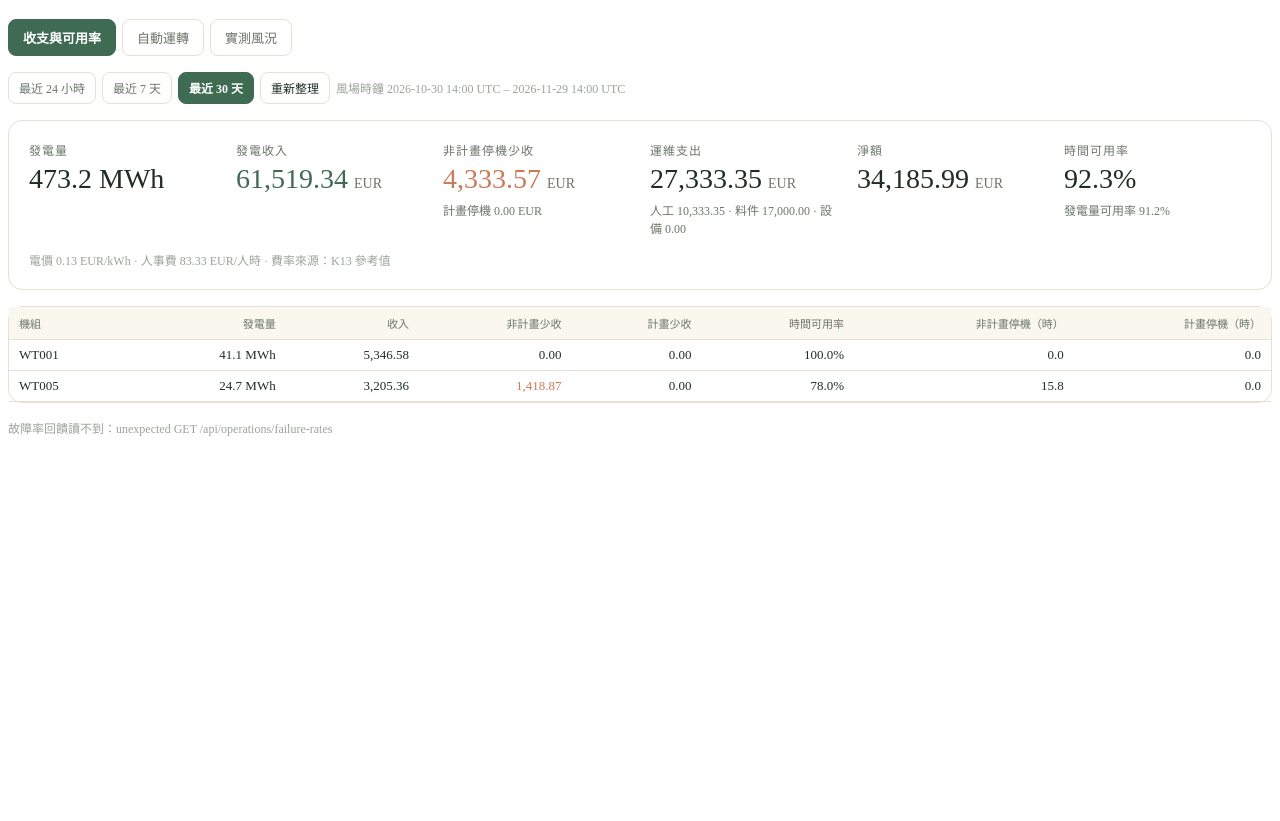
Test: 自動運轉 › 自動定檢計畫：列出排程、儲存週期
This screenshot has width=1280, height=821.
Click the button "自動運轉" at (163, 37), box [122,19,204,56]
(page scrolled)
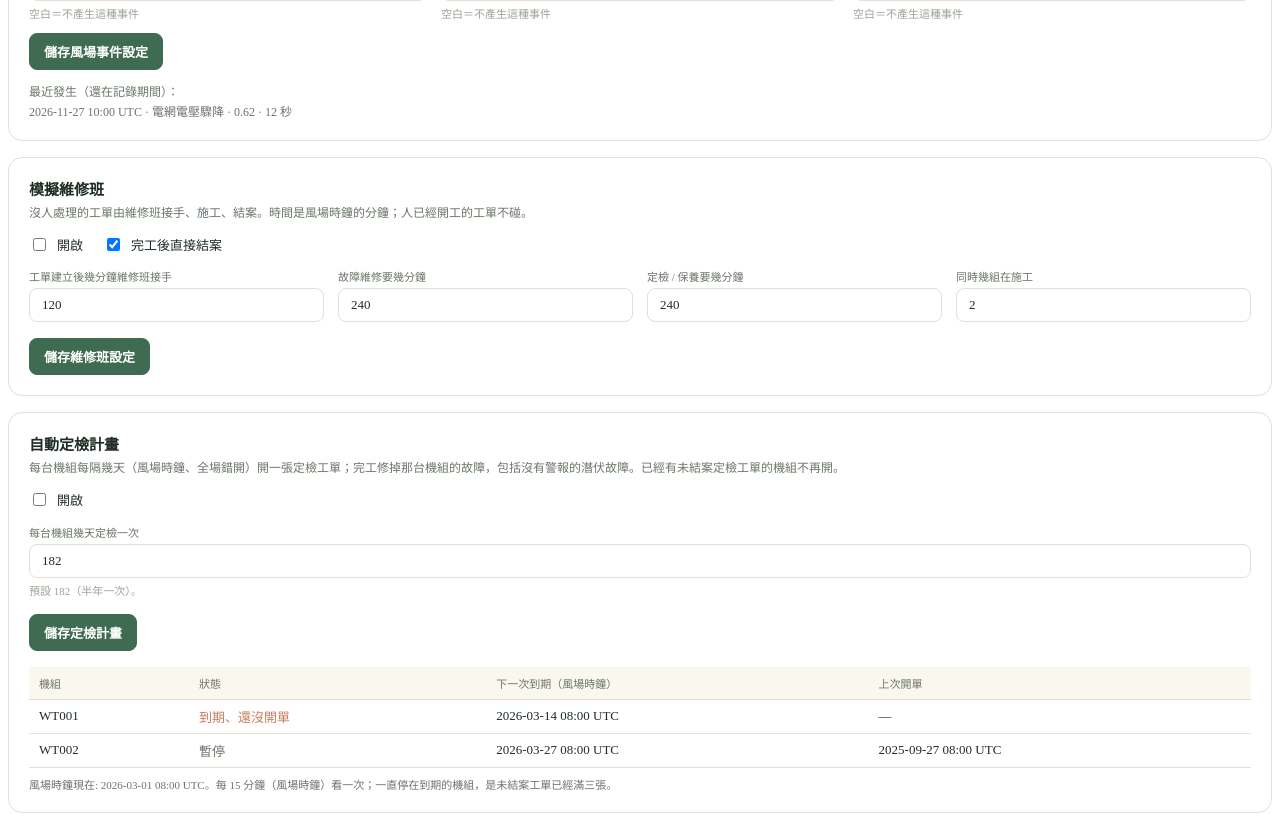
Result: the text "2026-03-14 08:00 UTC" is shown at [486,699,869,733]
Result: the text "暫停" is shown at [189,733,486,767]
Result: the text "到期、還沒開單" is shown at [189,699,486,733]
Replace the text in the number field labelled "每台機組幾天定檢一次" with "30" at (640, 561), box [29,544,1251,578]
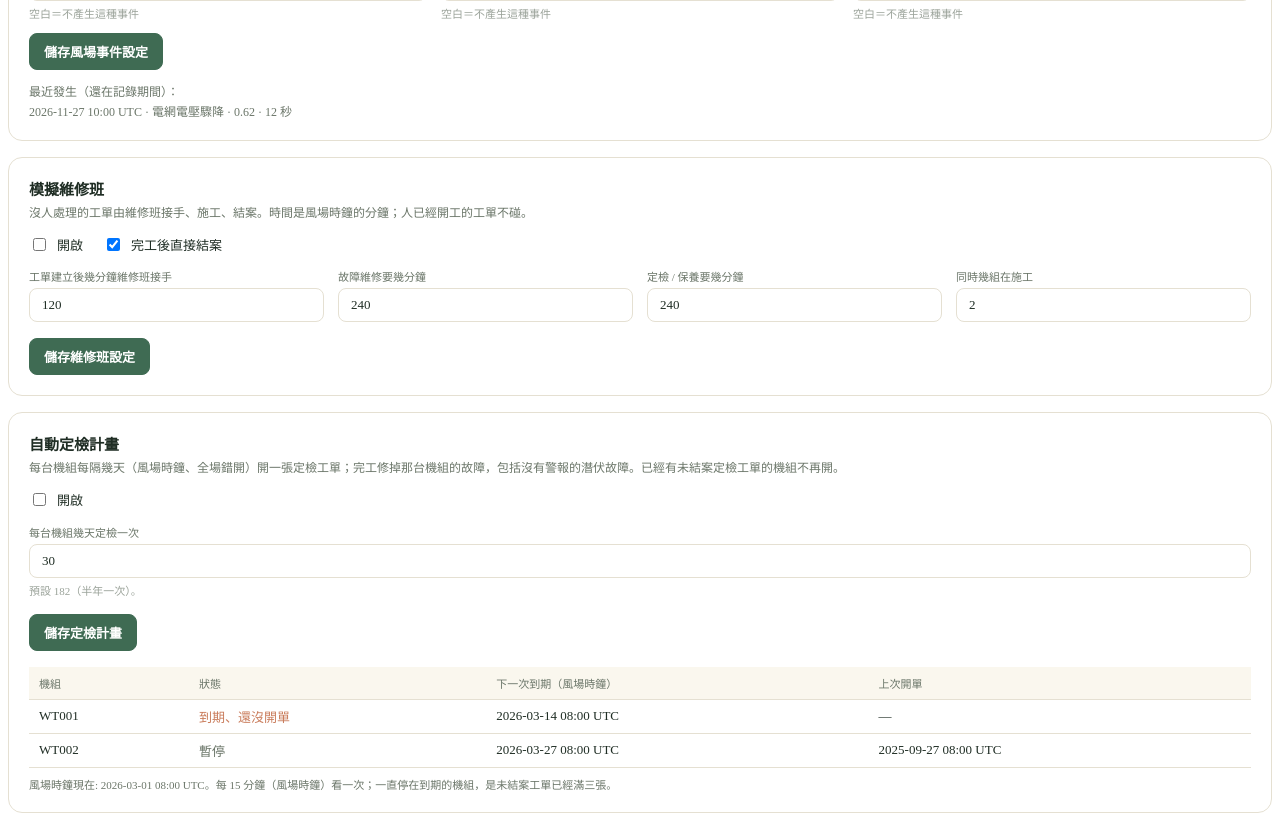
Click the checkbox labelled "開啟" below "自動定檢計畫" at (40, 499), box [33,493,46,506]
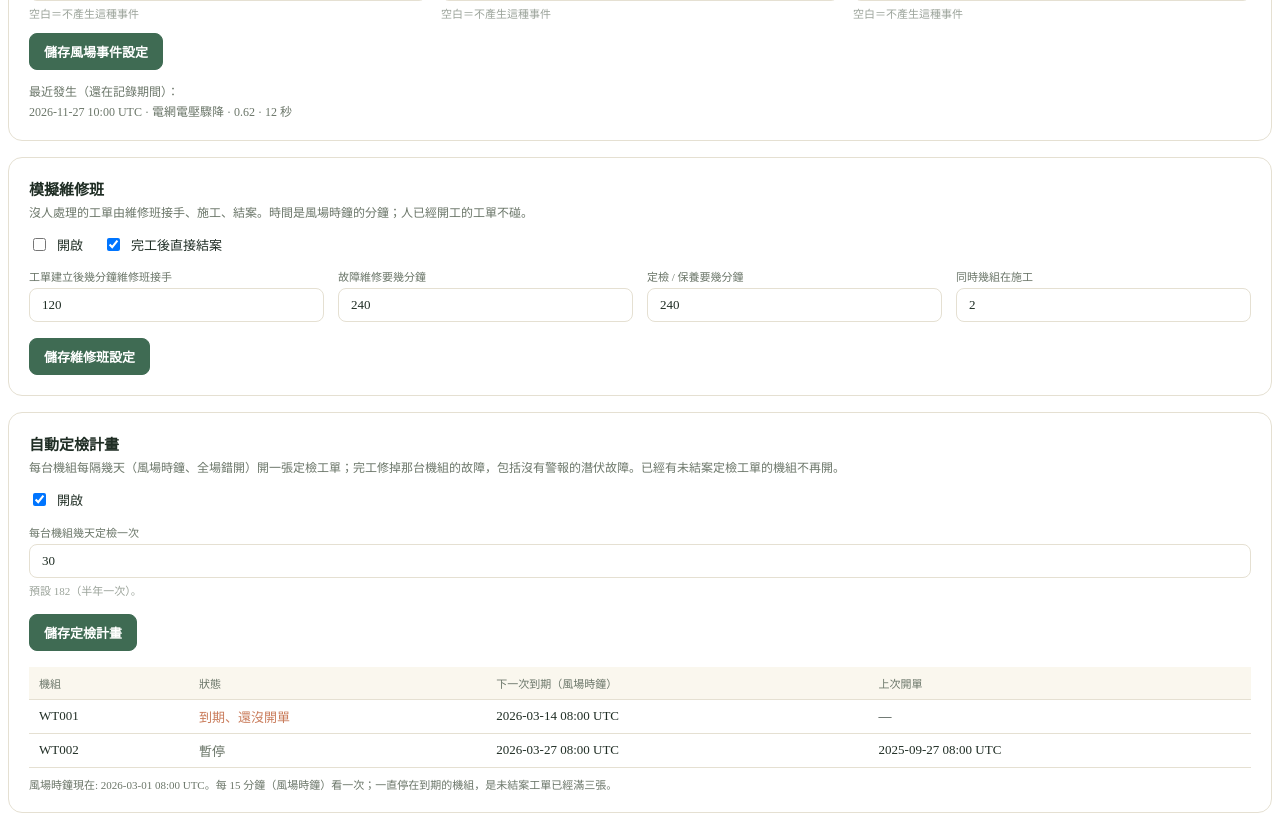
Click the button "儲存定檢計畫" at (83, 632), box [29,614,137,651]
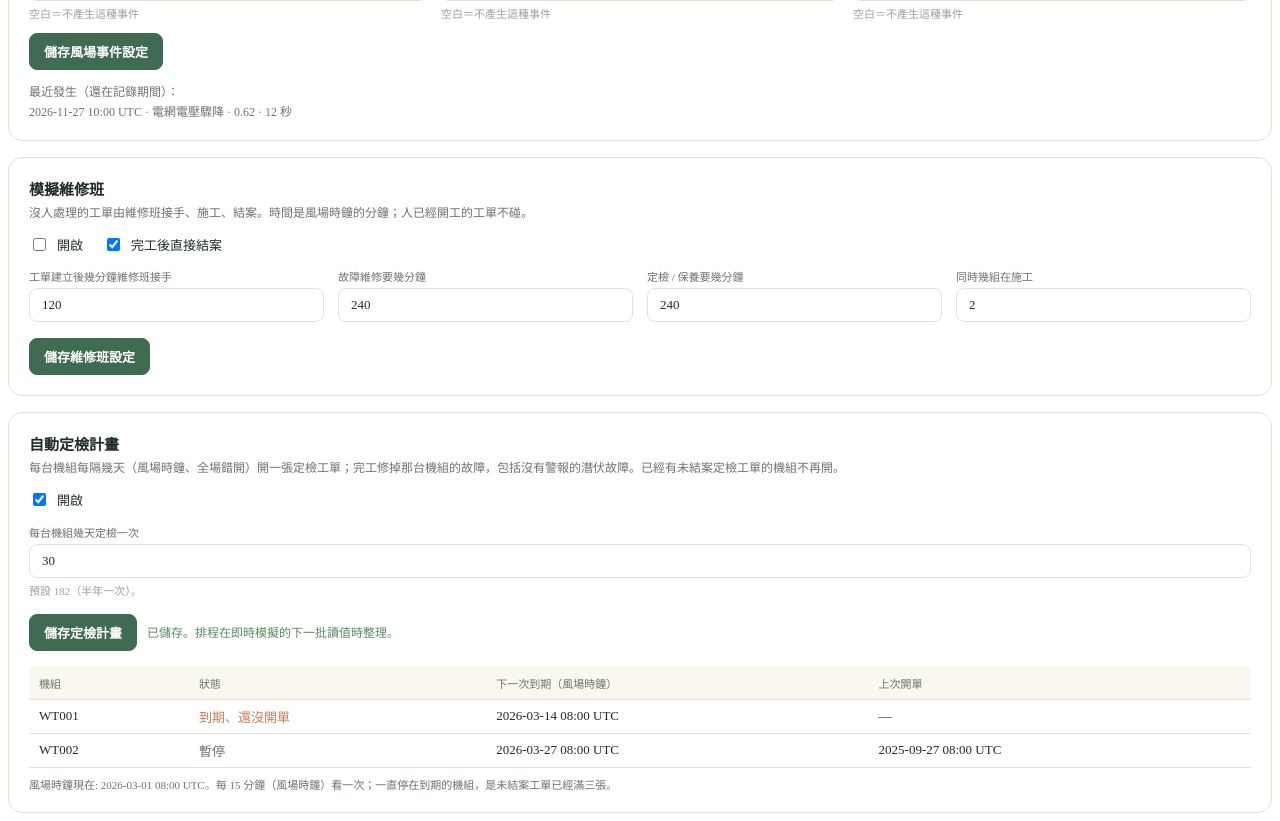
Result: the text "已儲存。排程在即時模擬的下一批讀值時整理。" is shown at [147,623,399,641]
